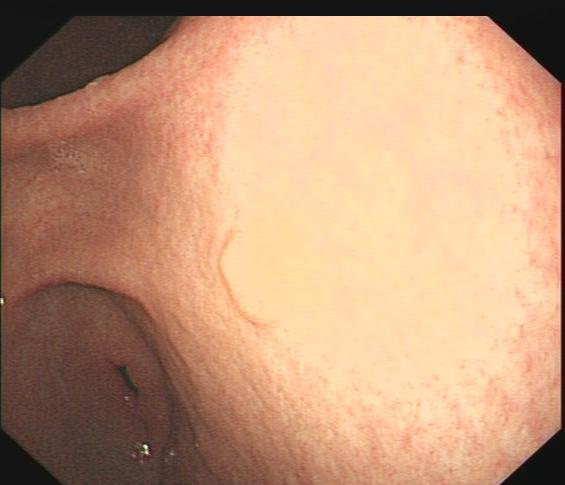Polyp: (212, 225, 290, 329)
